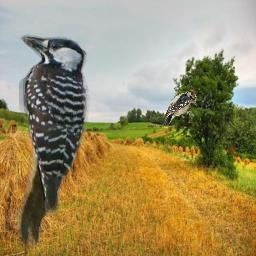Woodpecker: (16, 31, 91, 247), (160, 90, 197, 127)
